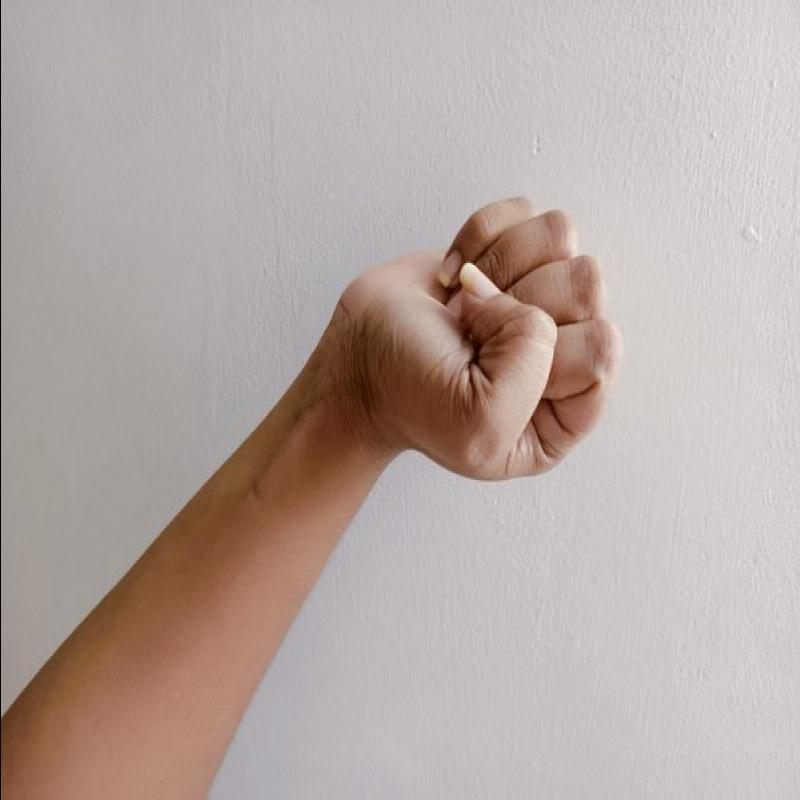Mushti: (337, 182, 631, 501)
